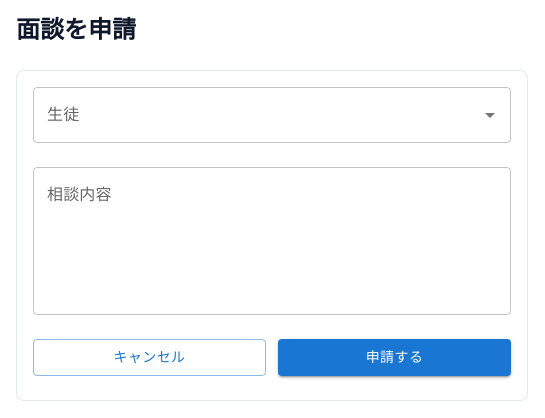
Test: teacher/CreateInterview Presenter › 該当する生徒がいないときはその旨を表示する
This screenshot has width=545, height=418.
In the dropdown labelled "生徒": (257, 115) [42, 96, 472, 134], type "存在しない"
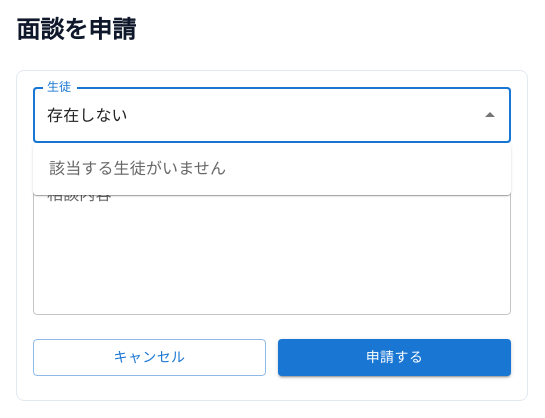
Result: the text "該当する生徒がいません" is shown at [49, 159, 226, 178]
